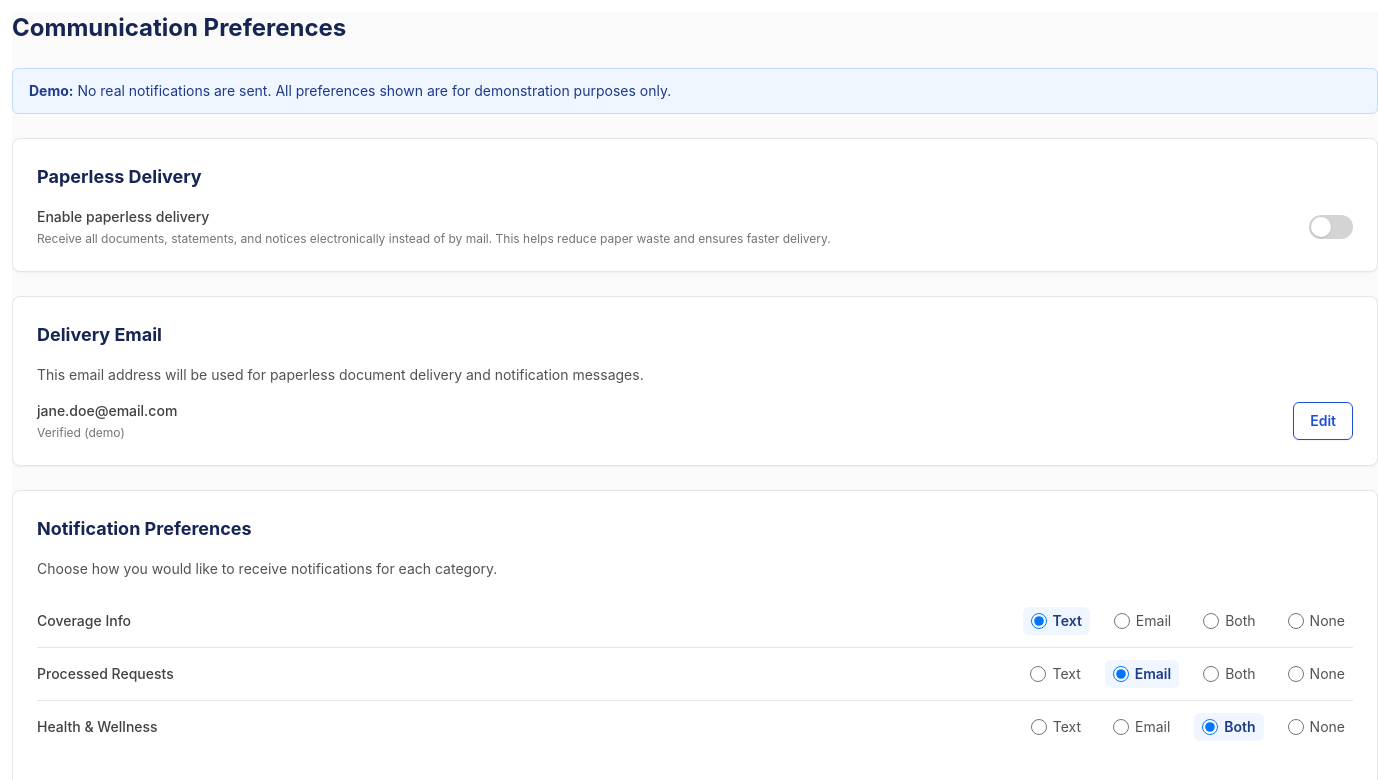
Test: CommunicationPreferencesPage › toggles paperless delivery off after enabling
What coordinates should you click on to do the following:
click the switch named "toggle paperless delivery"
I would click on:
 (1331, 227)
Its box is [1309, 215, 1353, 239].
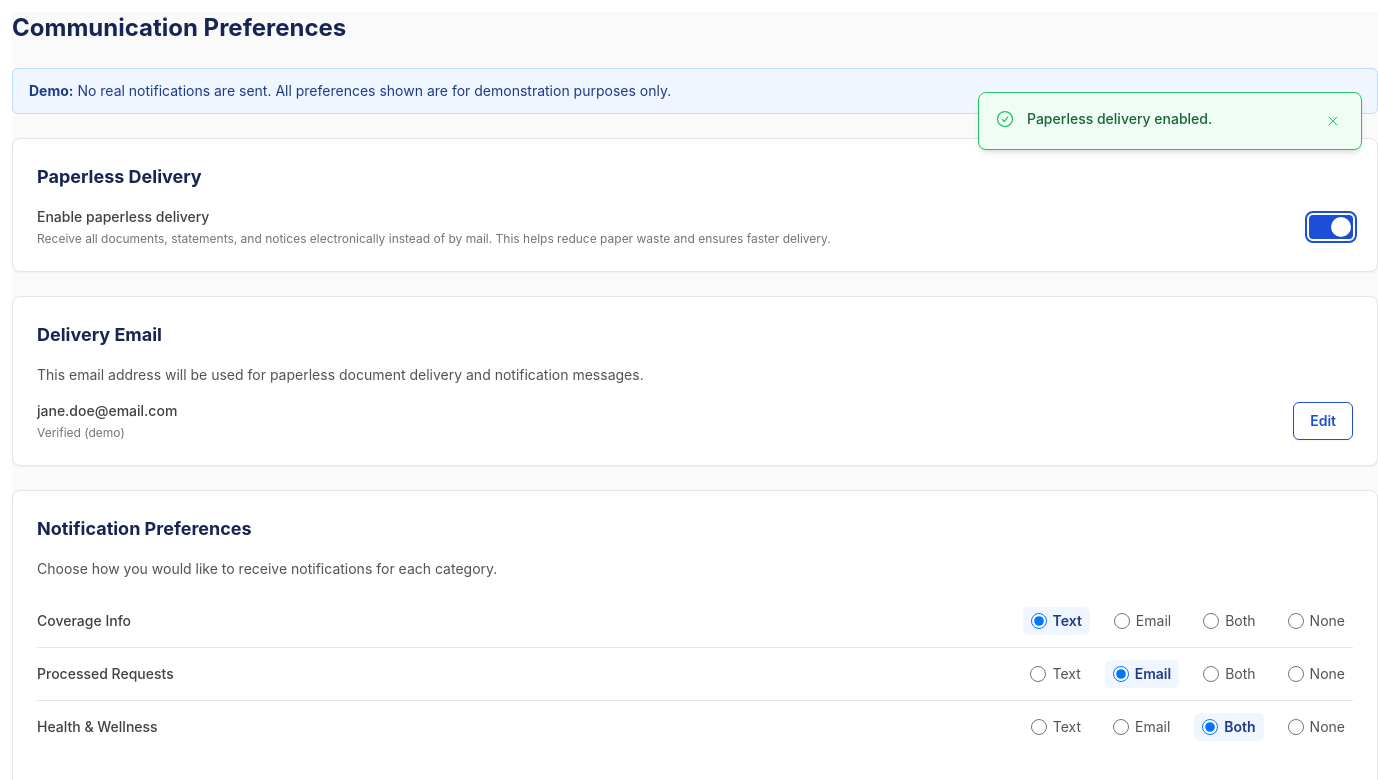
expect the switch named "toggle paperless delivery" is checked: met
What coordinates should you click on to do the following:
click the switch named "toggle paperless delivery"
I would click on:
 (1331, 227)
Its box is [1309, 215, 1353, 239].
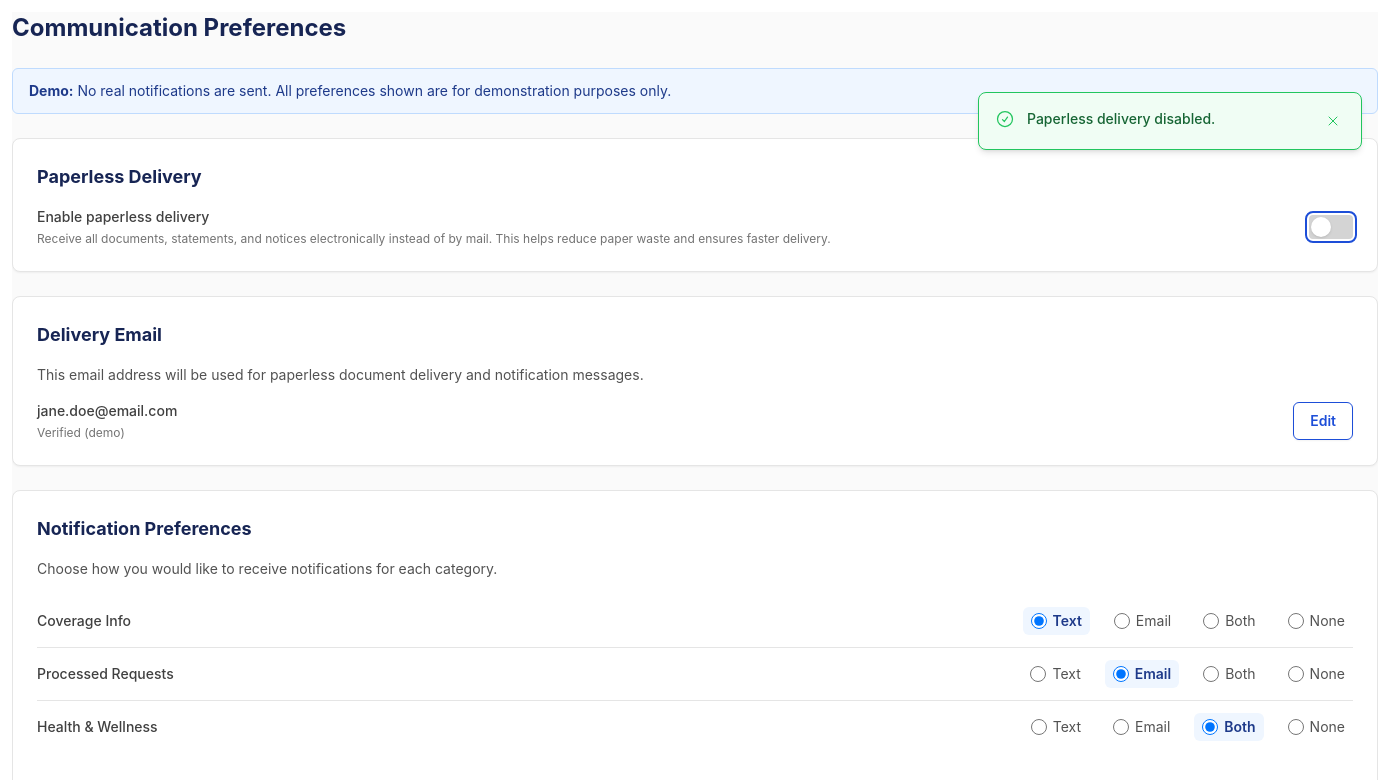
expect the text "Paperless delivery disabled." is shown: met, box [1027, 110, 1215, 127]
